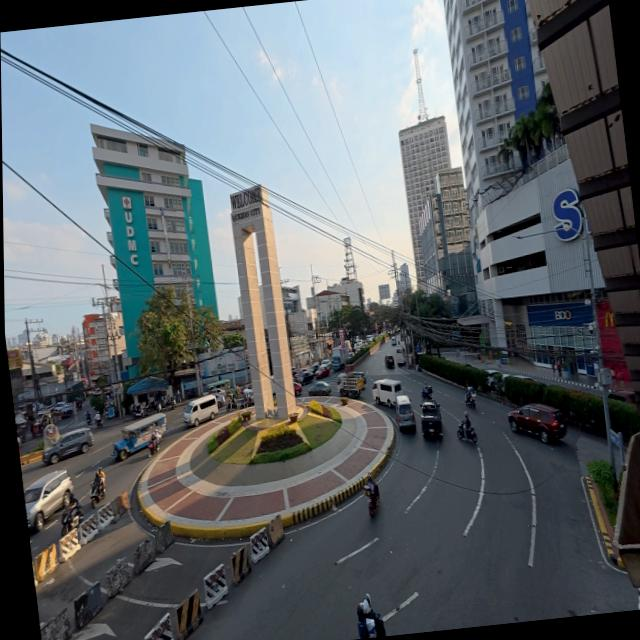car: (505, 398, 569, 446), (37, 428, 94, 466)
vans: (179, 392, 223, 428)
